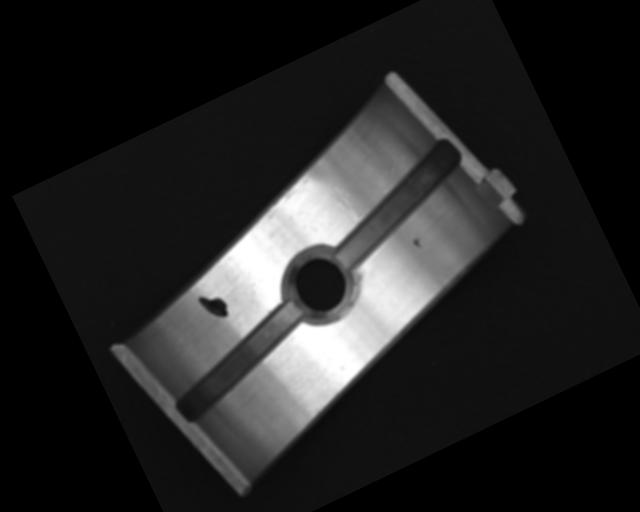blot: (196, 287, 232, 325)
bruise: (411, 236, 424, 250)
gap: (311, 136, 482, 272), (158, 302, 322, 426)
hole: (278, 239, 366, 332)
nick: (326, 180, 361, 227)
